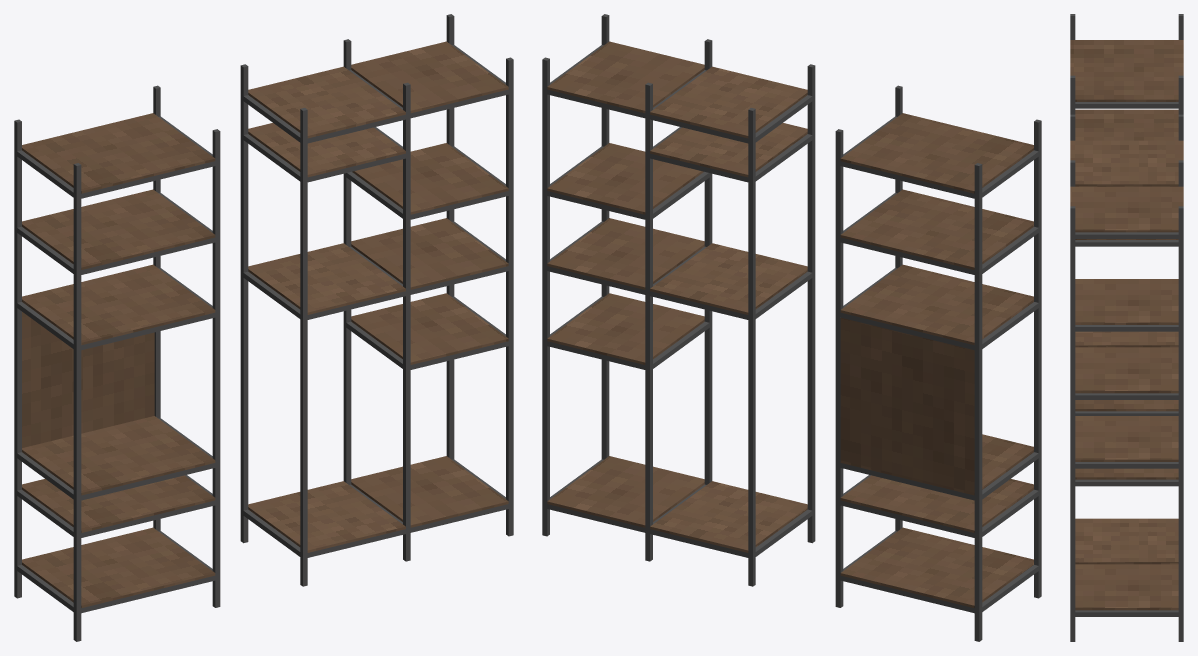
3 renders of one model, left to right at view 1: azimuth 30°, elevation 25°; view 2: azimuth 150°, elevation 25°; view 3: azimuth 270°, elevation 25°, orthographic. The views are drawn at different scales.
Visible parts, largest first — view 1: Dark wood(85761AF8-3E8E-4EB7-82BF-5B0F585D17DD)_11, Dark wood(28F1198B-73F6-4FEE-9F7B-B69DE7A279D1)_5, Dark wood(1244F119-739F-46DC-8262-0EE8339AA590)_6, Dark wood(0E38AE3A-FBAC-497E-BF09-7EBB66E1BC81)_7, Dark wood(66714A9A-6772-40F4-8CCC-592F55B5C105)_10, Dark wood(6B2FA57E-49BA-439C-B871-0D3EC2E29B31)_8, Dark wood(124CF71E-D57F-4374-884E-A9D99B8D982C)_17, Dark wood(81BDF483-3A7A-4555-8195-AB65B536C3D4)_15, Dark wood(DE1FD934-B613-4BFE-A4E1-D1FFCBE2BC50)_19, Dark wood(4CB23103-FE6A-4BB9-BEF6-0A04AABC9836)_20, Dark wood(F0B161CA-5680-43B2-930D-1FDB2C4F1EB1)_16, Dark wood(A5820728-DC31-44BF-BDFF-5A1452BBE9AD)_12 (+29 smaller); view 2: Dark wood(85761AF8-3E8E-4EB7-82BF-5B0F585D17DD)_11, Dark wood(28F1198B-73F6-4FEE-9F7B-B69DE7A279D1)_5, Dark wood(1244F119-739F-46DC-8262-0EE8339AA590)_6, Dark wood(0E38AE3A-FBAC-497E-BF09-7EBB66E1BC81)_7, Dark wood(66714A9A-6772-40F4-8CCC-592F55B5C105)_10, Dark wood(124CF71E-D57F-4374-884E-A9D99B8D982C)_17, Dark wood(81BDF483-3A7A-4555-8195-AB65B536C3D4)_15, Dark wood(DE1FD934-B613-4BFE-A4E1-D1FFCBE2BC50)_19, Dark wood(4CB23103-FE6A-4BB9-BEF6-0A04AABC9836)_20, Dark wood(F0B161CA-5680-43B2-930D-1FDB2C4F1EB1)_16, Dark wood(A5820728-DC31-44BF-BDFF-5A1452BBE9AD)_12, Dark wood(D76B1013-4CEE-4679-A515-0DD16A063F7F)_13 (+28 smaller); view 3: Dark wood(28F1198B-73F6-4FEE-9F7B-B69DE7A279D1)_5, Dark wood(81BDF483-3A7A-4555-8195-AB65B536C3D4)_15, Dark wood(124CF71E-D57F-4374-884E-A9D99B8D982C)_17, Dark wood(D76B1013-4CEE-4679-A515-0DD16A063F7F)_13, Dark wood(F0B161CA-5680-43B2-930D-1FDB2C4F1EB1)_16, Dark wood(4CB23103-FE6A-4BB9-BEF6-0A04AABC9836)_20, Dark wood(A5820728-DC31-44BF-BDFF-5A1452BBE9AD)_12, Dark wood(32CC674D-AC59-4E3B-B3CA-91F3BCCDACA9)_14, Dark wood(1244F119-739F-46DC-8262-0EE8339AA590)_6, Black metal(BE32EDC8-C9D1-462D-BB37-27DAF035CB7C)_34, Black metal(E4B611B2-5154-45BB-9670-57C68EE21DF8)_35, Dark wood(DE1FD934-B613-4BFE-A4E1-D1FFCBE2BC50)_19 (+13 smaller).
Boxes of the visible parts, left/top/right/bottom form: Dark wood(85761AF8-3E8E-4EB7-82BF-5B0F585D17DD)_11: left=22, top=312, right=154, bottom=447; Dark wood(28F1198B-73F6-4FEE-9F7B-B69DE7A279D1)_5: left=22, top=113, right=215, bottom=193; Dark wood(1244F119-739F-46DC-8262-0EE8339AA590)_6: left=22, top=189, right=215, bottom=269; Dark wood(0E38AE3A-FBAC-497E-BF09-7EBB66E1BC81)_7: left=22, top=264, right=215, bottom=345; Dark wood(66714A9A-6772-40F4-8CCC-592F55B5C105)_10: left=22, top=527, right=215, bottom=607; Dark wood(6B2FA57E-49BA-439C-B871-0D3EC2E29B31)_8: left=22, top=416, right=215, bottom=495; Dark wood(124CF71E-D57F-4374-884E-A9D99B8D982C)_17: left=248, top=66, right=405, bottom=138; Dark wood(81BDF483-3A7A-4555-8195-AB65B536C3D4)_15: left=351, top=41, right=508, bottom=113; Dark wood(DE1FD934-B613-4BFE-A4E1-D1FFCBE2BC50)_19: left=248, top=243, right=405, bottom=314; Dark wood(4CB23103-FE6A-4BB9-BEF6-0A04AABC9836)_20: left=248, top=481, right=405, bottom=552; Dark wood(F0B161CA-5680-43B2-930D-1FDB2C4F1EB1)_16: left=351, top=456, right=508, bottom=527; Dark wood(A5820728-DC31-44BF-BDFF-5A1452BBE9AD)_12: left=351, top=293, right=508, bottom=364; Dark wood(85761AF8-3E8E-4EB7-82BF-5B0F585D17DD)_11: left=840, top=317, right=974, bottom=492; Dark wood(28F1198B-73F6-4FEE-9F7B-B69DE7A279D1)_5: left=840, top=113, right=1033, bottom=193; Dark wood(1244F119-739F-46DC-8262-0EE8339AA590)_6: left=840, top=189, right=1033, bottom=269; Dark wood(0E38AE3A-FBAC-497E-BF09-7EBB66E1BC81)_7: left=840, top=264, right=1033, bottom=345; Dark wood(66714A9A-6772-40F4-8CCC-592F55B5C105)_10: left=840, top=527, right=1033, bottom=607; Dark wood(124CF71E-D57F-4374-884E-A9D99B8D982C)_17: left=650, top=66, right=807, bottom=138; Dark wood(81BDF483-3A7A-4555-8195-AB65B536C3D4)_15: left=547, top=41, right=704, bottom=113; Dark wood(DE1FD934-B613-4BFE-A4E1-D1FFCBE2BC50)_19: left=650, top=243, right=807, bottom=314; Dark wood(4CB23103-FE6A-4BB9-BEF6-0A04AABC9836)_20: left=650, top=481, right=807, bottom=552; Dark wood(F0B161CA-5680-43B2-930D-1FDB2C4F1EB1)_16: left=547, top=456, right=704, bottom=527; Dark wood(A5820728-DC31-44BF-BDFF-5A1452BBE9AD)_12: left=547, top=293, right=704, bottom=364; Dark wood(D76B1013-4CEE-4679-A515-0DD16A063F7F)_13: left=547, top=218, right=704, bottom=289; Dark wood(28F1198B-73F6-4FEE-9F7B-B69DE7A279D1)_5: left=1070, top=40, right=1183, bottom=101; Dark wood(81BDF483-3A7A-4555-8195-AB65B536C3D4)_15: left=1070, top=186, right=1183, bottom=232; Dark wood(124CF71E-D57F-4374-884E-A9D99B8D982C)_17: left=1070, top=140, right=1183, bottom=186; Dark wood(D76B1013-4CEE-4679-A515-0DD16A063F7F)_13: left=1075, top=347, right=1178, bottom=393; Dark wood(F0B161CA-5680-43B2-930D-1FDB2C4F1EB1)_16: left=1075, top=564, right=1178, bottom=610; Dark wood(4CB23103-FE6A-4BB9-BEF6-0A04AABC9836)_20: left=1075, top=518, right=1178, bottom=564; Dark wood(A5820728-DC31-44BF-BDFF-5A1452BBE9AD)_12: left=1075, top=416, right=1178, bottom=461; Dark wood(32CC674D-AC59-4E3B-B3CA-91F3BCCDACA9)_14: left=1075, top=279, right=1178, bottom=324; Dark wood(1244F119-739F-46DC-8262-0EE8339AA590)_6: left=1075, top=109, right=1178, bottom=140; Black metal(BE32EDC8-C9D1-462D-BB37-27DAF035CB7C)_34: left=1070, top=206, right=1075, bottom=641; Black metal(E4B611B2-5154-45BB-9670-57C68EE21DF8)_35: left=1178, top=206, right=1183, bottom=641; Dark wood(DE1FD934-B613-4BFE-A4E1-D1FFCBE2BC50)_19: left=1075, top=331, right=1178, bottom=347.
Size of the model in its own units: 18.26 by 19 by 4.5.
43 materials, 16 textured.
